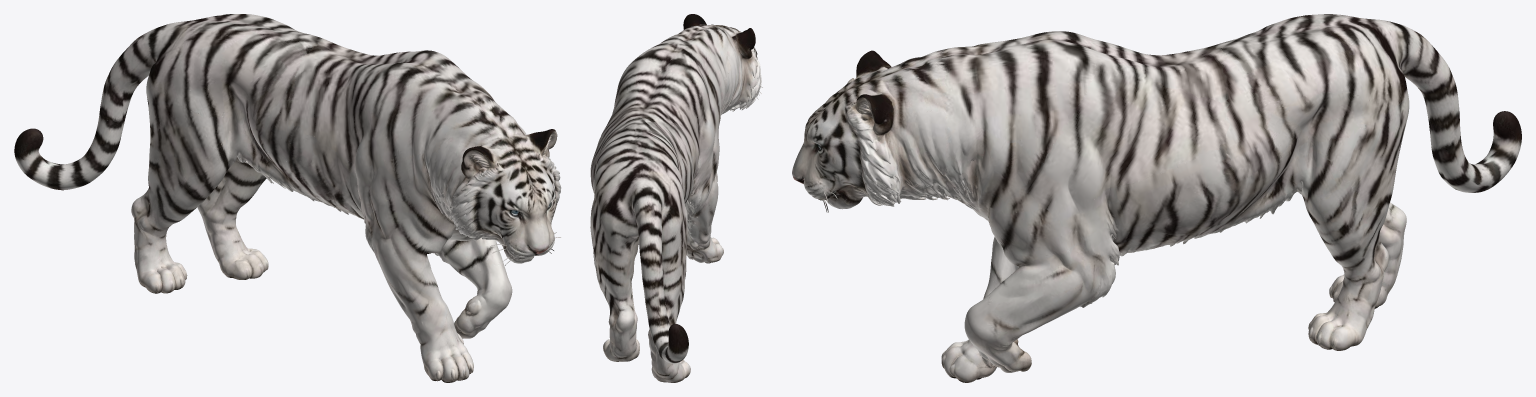
The model's file is wild-tiger.glb.
3 views of the same model, side by side, from view 1: azimuth 30°, elevation 25°; view 2: azimuth 150°, elevation 25°; view 3: azimuth 270°, elevation 25° (orthographic). The views are drawn at different scales.
Parts seen in each view (by area): view 1: white-tiger; view 2: white-tiger; view 3: white-tiger.
Boxes of the visible parts, <box> form: white-tiger: <box>14,14,561,382</box>; white-tiger: <box>590,14,762,382</box>; white-tiger: <box>792,14,1521,382</box>.
Size of the model in its own units: 1.45 by 1.44 by 2.8.
1 material, 1 textured.
